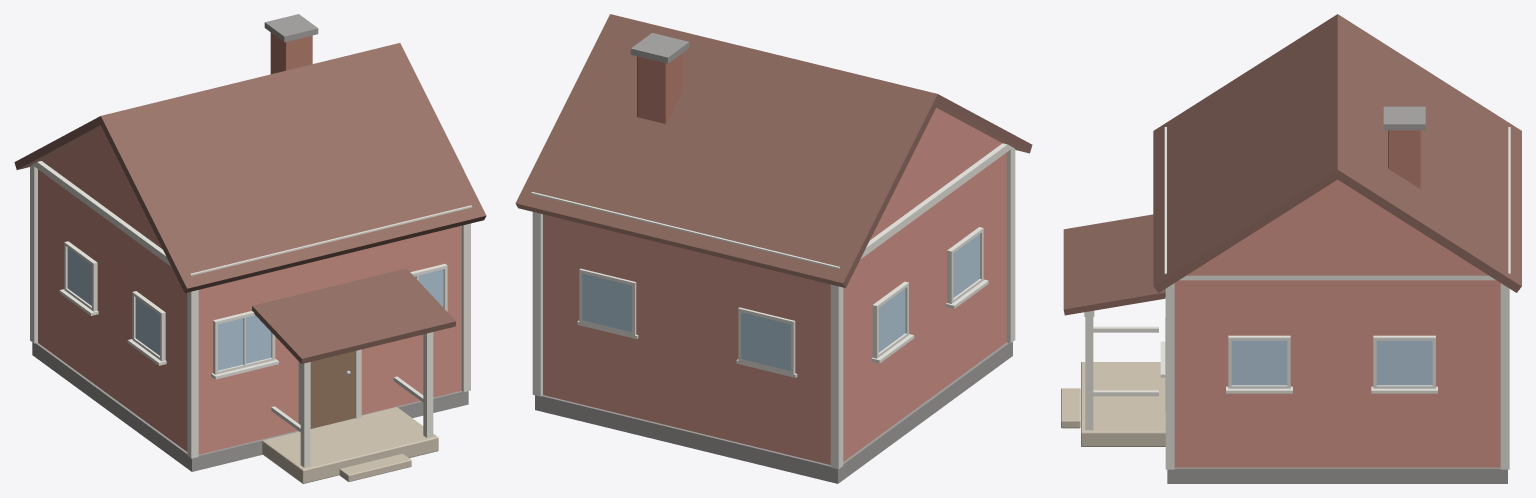
The model's file is HouseRedModel.glb.
3 renders of one model, left to right at view 1: azimuth 30°, elevation 25°; view 2: azimuth 150°, elevation 25°; view 3: azimuth 270°, elevation 25°, orthographic. The views are drawn at different scales.
Parts seen in each view (by area): view 1: HouseRedModel; view 2: HouseRedModel; view 3: HouseRedModel.
Part boxes in pixels (x1,y1,x2,y2): HouseRedModel: (14, 14, 486, 483); HouseRedModel: (515, 14, 1032, 483); HouseRedModel: (1061, 14, 1521, 483).
Bounding box in the file's own units: 6.6 × 6.61 × 8.26.
